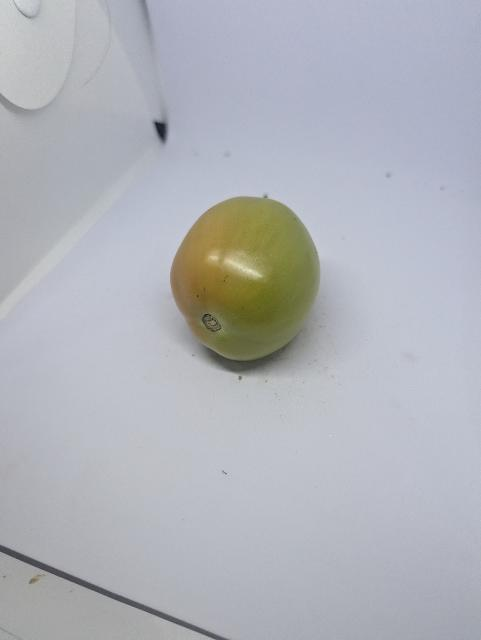breaker: (168, 193, 332, 368)
